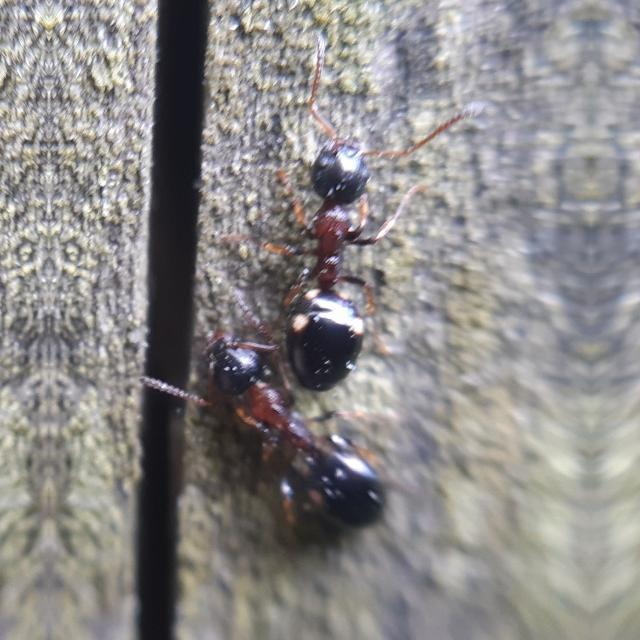Dolichoderus: (170, 292, 424, 554), (248, 88, 414, 406)
